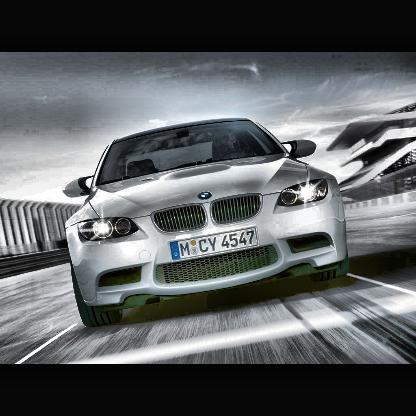BMW M3 Coupe 2012: (62, 117, 352, 332)
